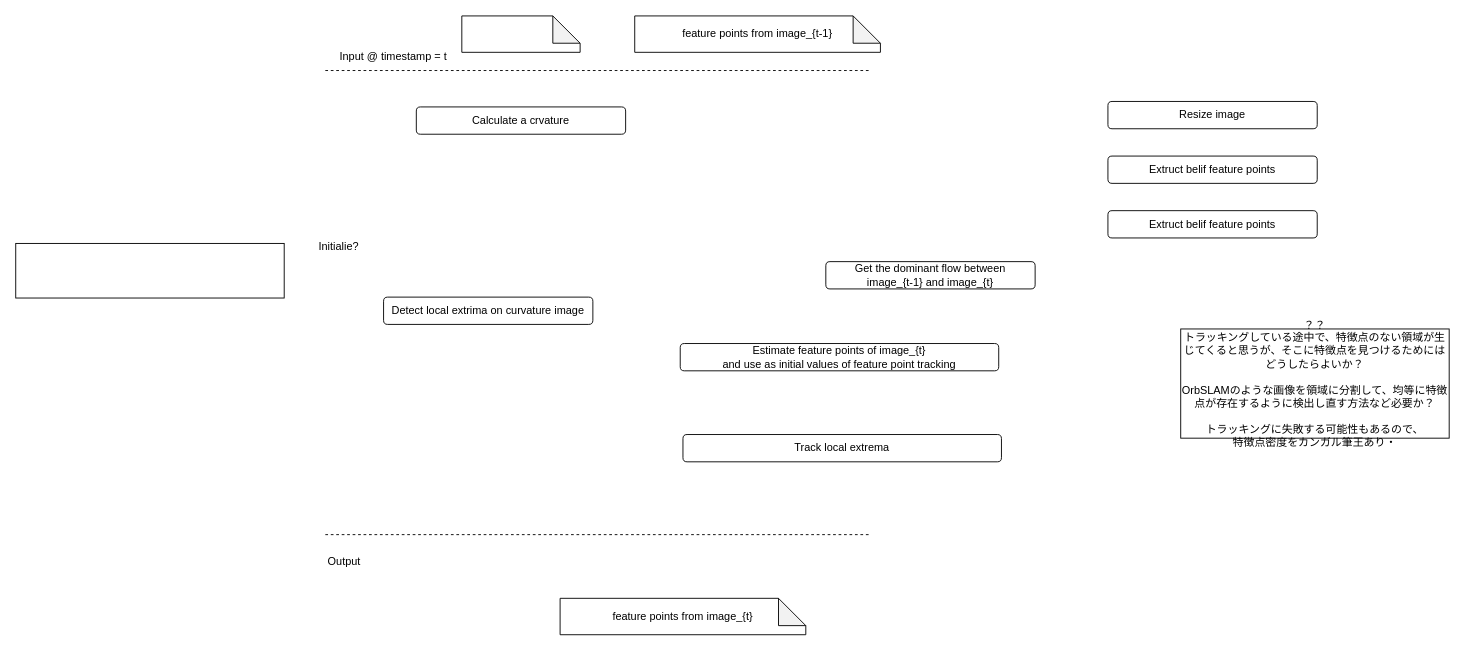
The diagram is 1466 pixels wide and 651 high, and some of its shapes have lost their labels. Each missing label, with the centre of its shape:
"Image" belongs at [520,33].
"？？ 曲率画像の画像の極値探索に利用する初期値は どうやって決めるのか？ - ランダムサンプル？" belongs at [149,270].
